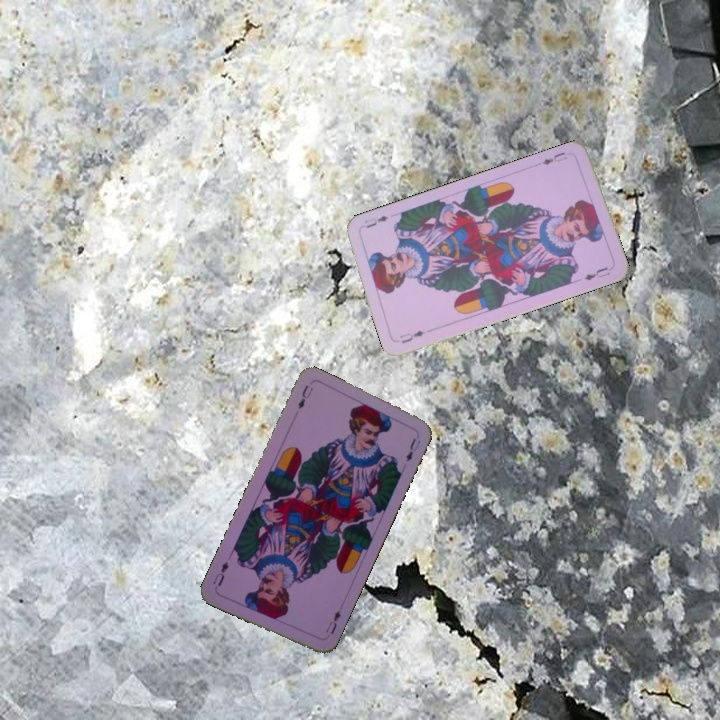EU: (294, 381, 316, 412), (322, 606, 343, 637), (395, 326, 427, 346), (538, 148, 569, 167)
